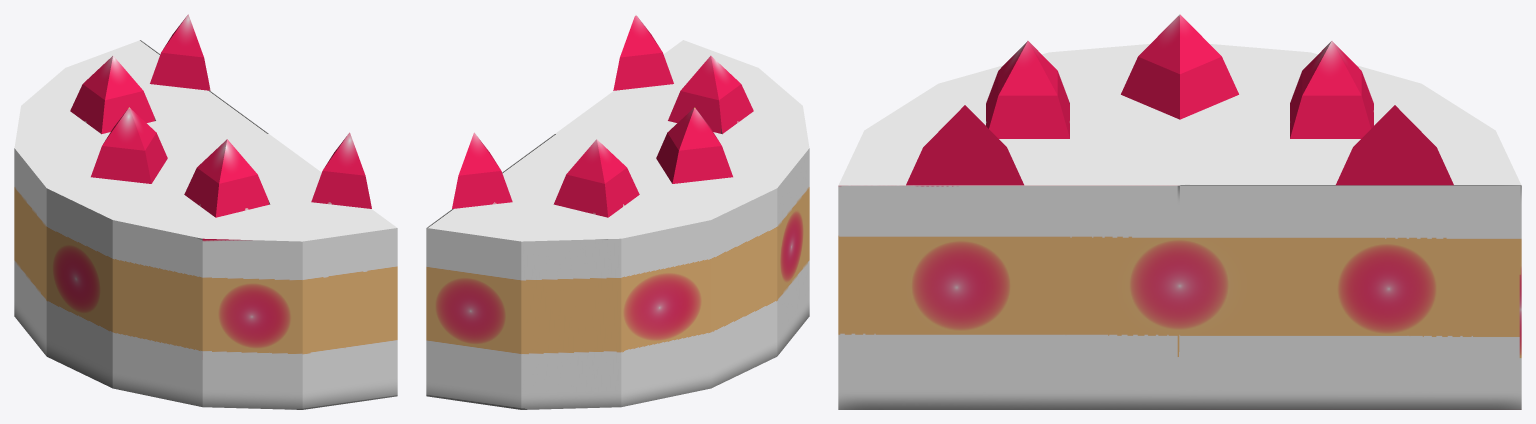
The model's file is cake_harf.fbx.
3 renders of one model, left to right at view 1: azimuth 30°, elevation 25°; view 2: azimuth 150°, elevation 25°; view 3: azimuth 270°, elevation 25°, orthographic. The views are drawn at different scales.
Visible parts, largest first — view 1: 球.007; view 2: 球.007; view 3: 球.007.
Boxes of the visible parts, x1,y1,x2,y2 form: 球.007: (14,14,397,409); 球.007: (426,14,809,409); 球.007: (838,14,1521,409).
Size of the model in its own units: 100 by 98.52 by 200.
Materials: 1 (1 with a texture image).
